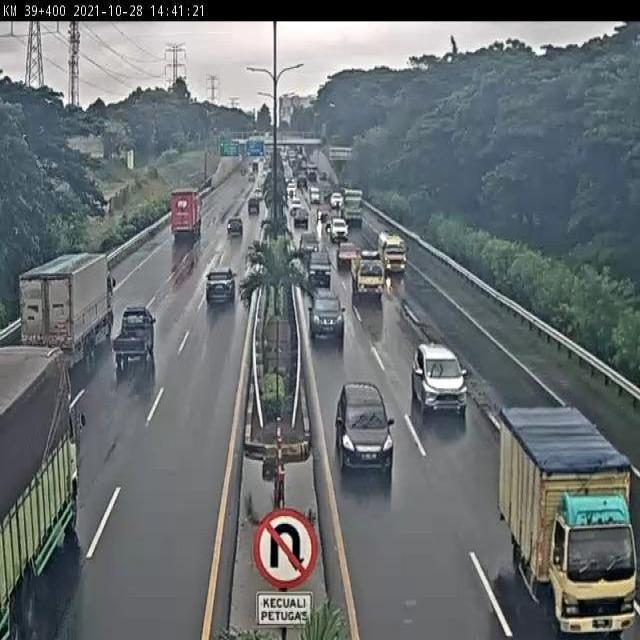car: (335, 383, 394, 475), (411, 341, 468, 416), (111, 305, 155, 364), (308, 288, 345, 343), (206, 267, 236, 305), (305, 247, 332, 285)
truck: (496, 405, 639, 640), (18, 252, 116, 367), (350, 249, 386, 300)
